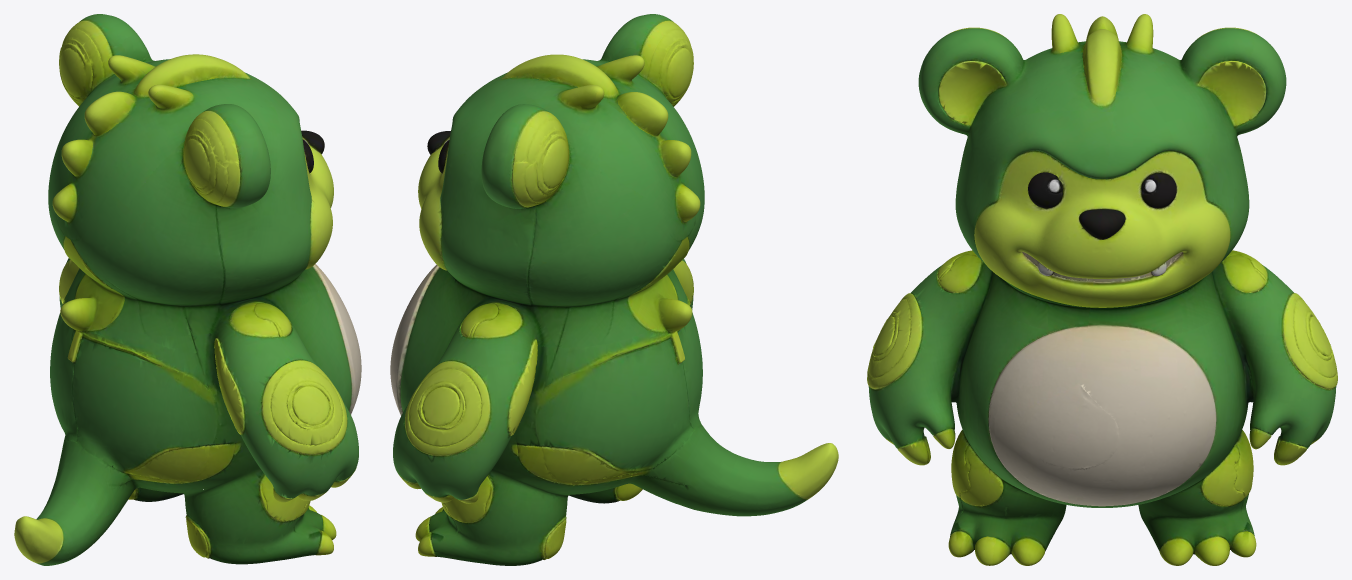
Rendered from token_bomber.glb.
3 views of the same model, side by side, from view 1: azimuth 30°, elevation 25°; view 2: azimuth 150°, elevation 25°; view 3: azimuth 270°, elevation 25° (orthographic). The views are drawn at different scales.
Parts seen in each view (by area): view 1: tripo_node_4fad9837-010e-402e-a71b-1b58572f6971; view 2: tripo_node_4fad9837-010e-402e-a71b-1b58572f6971; view 3: tripo_node_4fad9837-010e-402e-a71b-1b58572f6971.
Part boxes in pixels (x1,y1,x2,y2): tripo_node_4fad9837-010e-402e-a71b-1b58572f6971: (14, 14, 361, 565); tripo_node_4fad9837-010e-402e-a71b-1b58572f6971: (390, 14, 838, 565); tripo_node_4fad9837-010e-402e-a71b-1b58572f6971: (867, 14, 1337, 565).
Size of the model in its own units: 0.8426 by 1 by 0.8859.
1 material, 1 textured.
